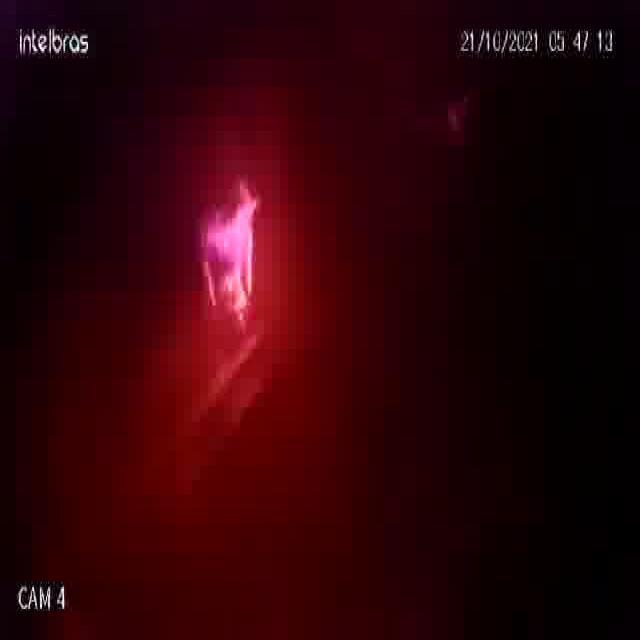Fire: (161, 117, 294, 386)
